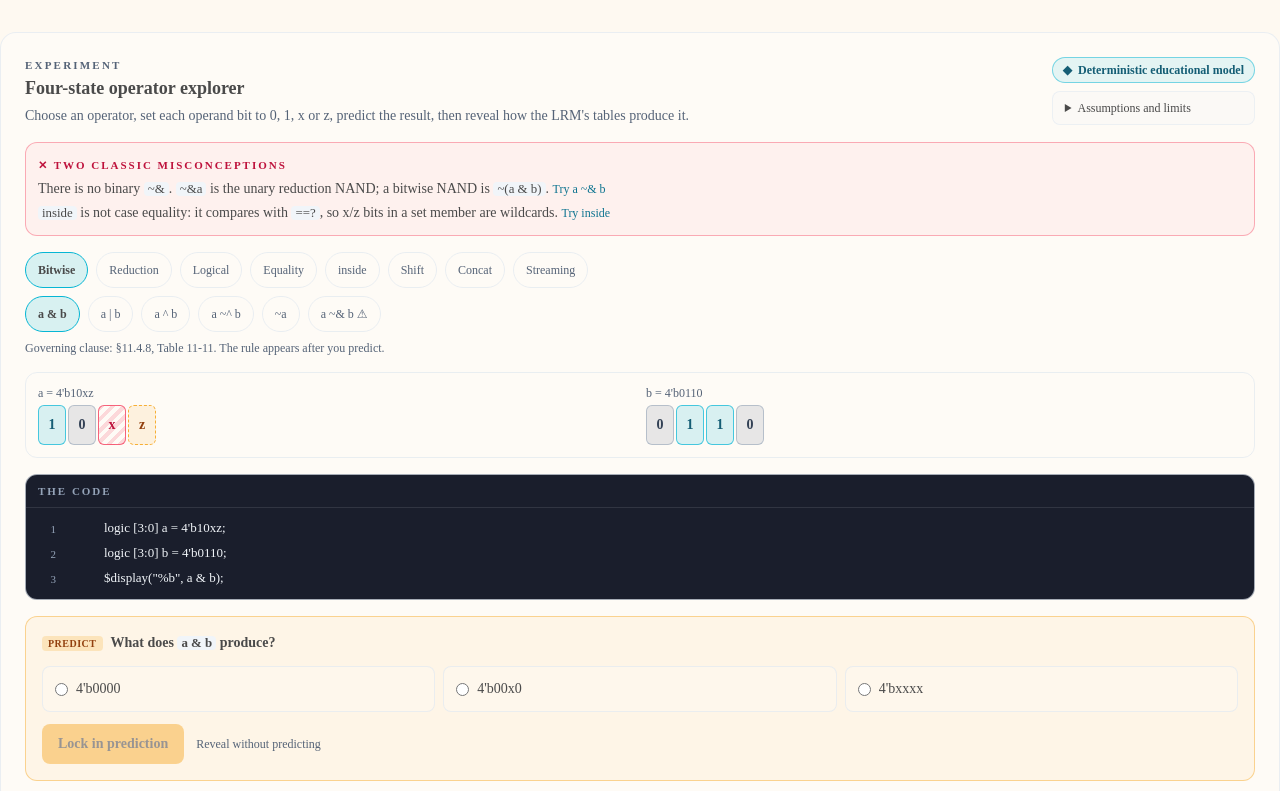
Scenario: OperatorExplorer › diagnoses the 'any x poisons everything' answer for a bitwise operator
This screenshot has width=1280, height=791.
Click the radio button labelled "4'bxxxx": click(864, 690) [858,683,871,696]
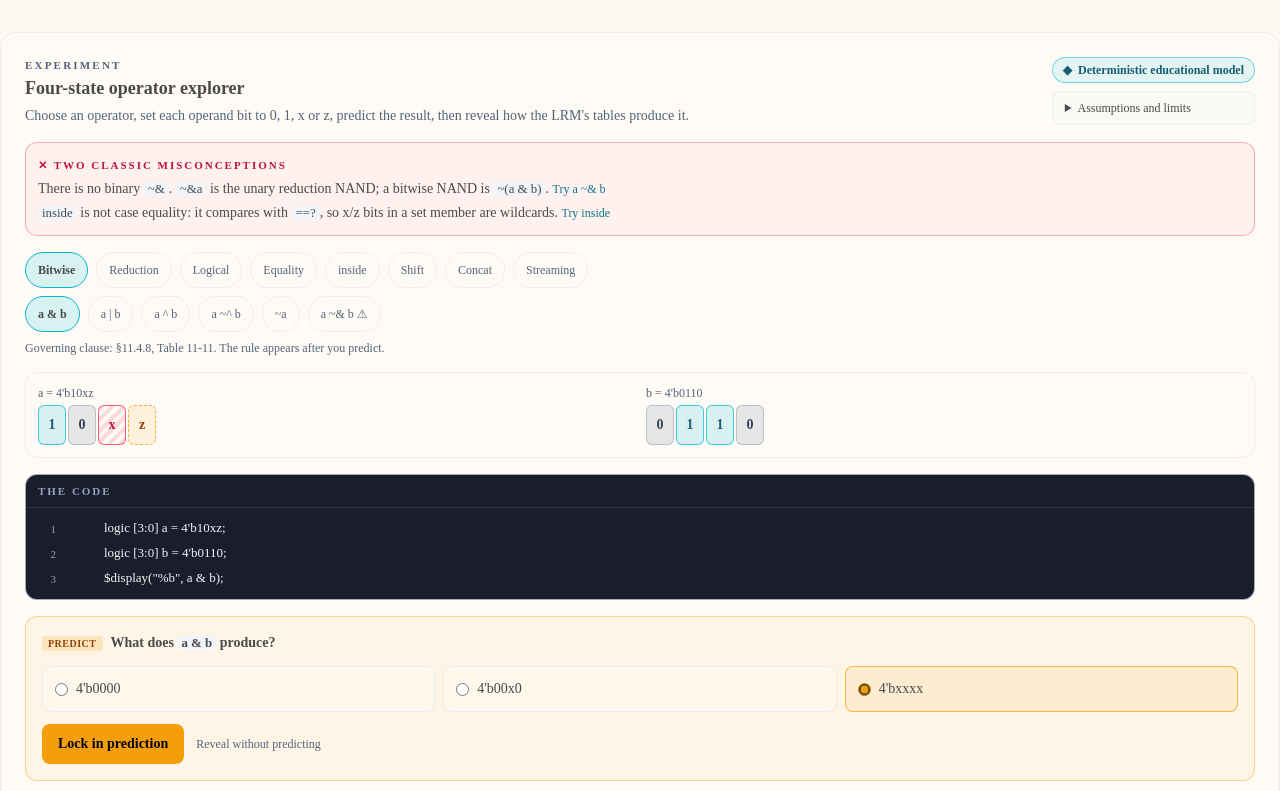
Click the button "Lock in prediction": click(113, 744) [42,724,184,764]
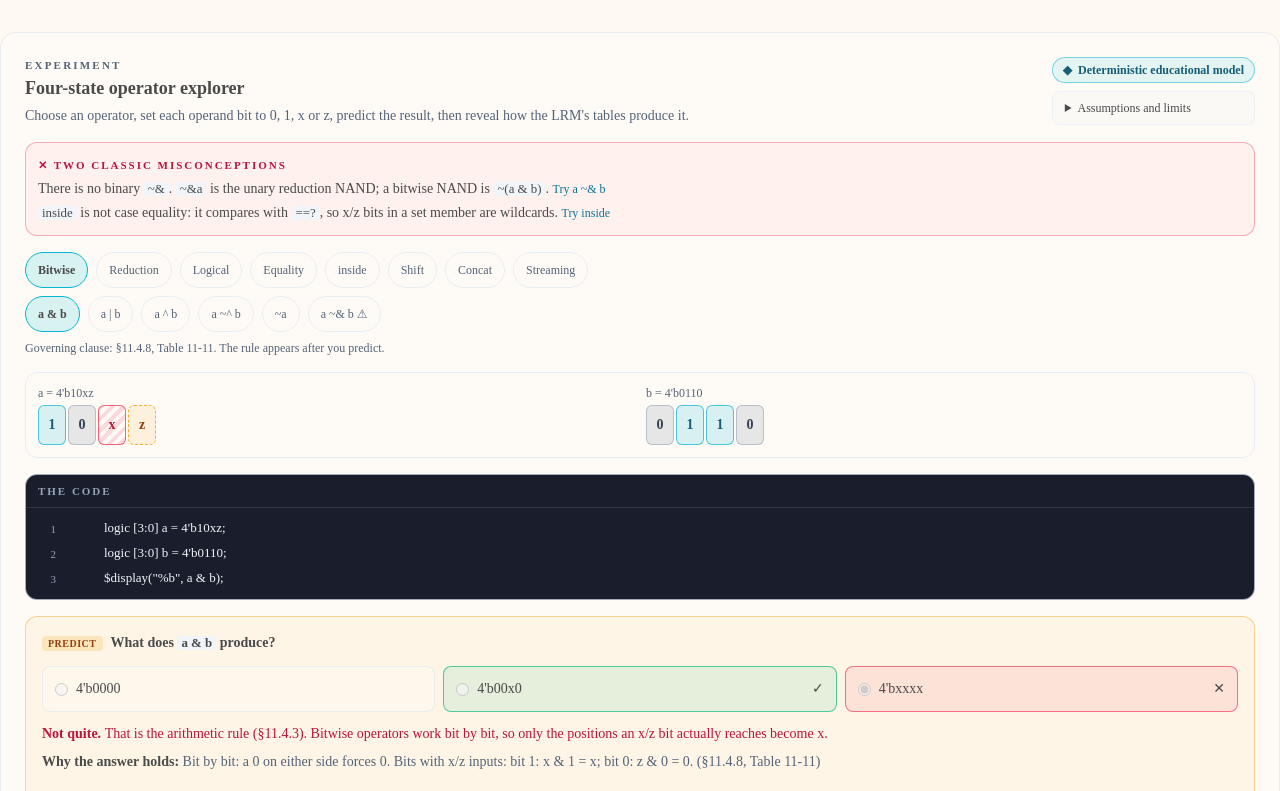
Result: the text "Not quite." is shown at [42,726,105,741]
Result: the text "arithmetic rule" is shown at [105,726,828,741]
